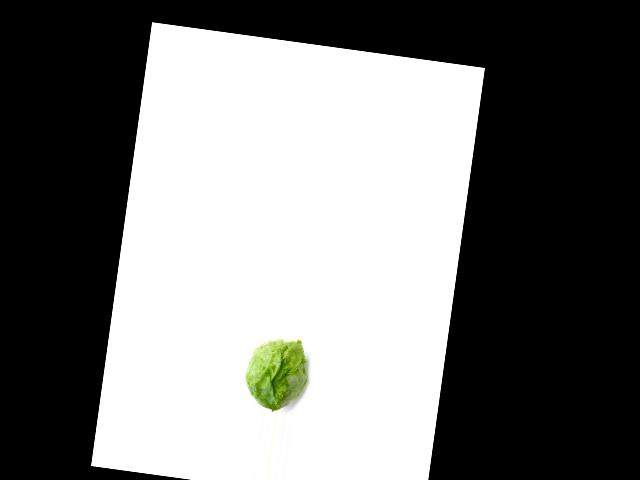lettuce: (237, 333, 315, 414)
